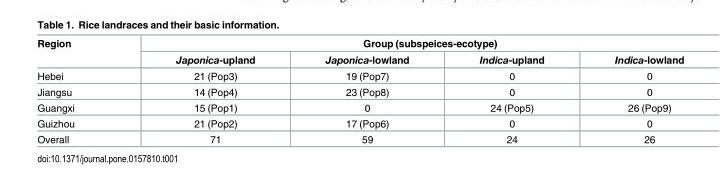table: (36, 36, 683, 144)
table column: (124, 36, 289, 144), (289, 36, 443, 144), (443, 36, 578, 144), (578, 36, 683, 144), (36, 36, 124, 144)
table column header: (36, 36, 683, 67)
table row: (36, 50, 683, 67), (36, 67, 683, 83), (36, 83, 683, 99), (36, 114, 683, 130), (36, 99, 683, 114), (36, 36, 683, 50), (36, 130, 683, 144)
table spanning cell: (124, 36, 683, 50), (36, 36, 124, 67)
